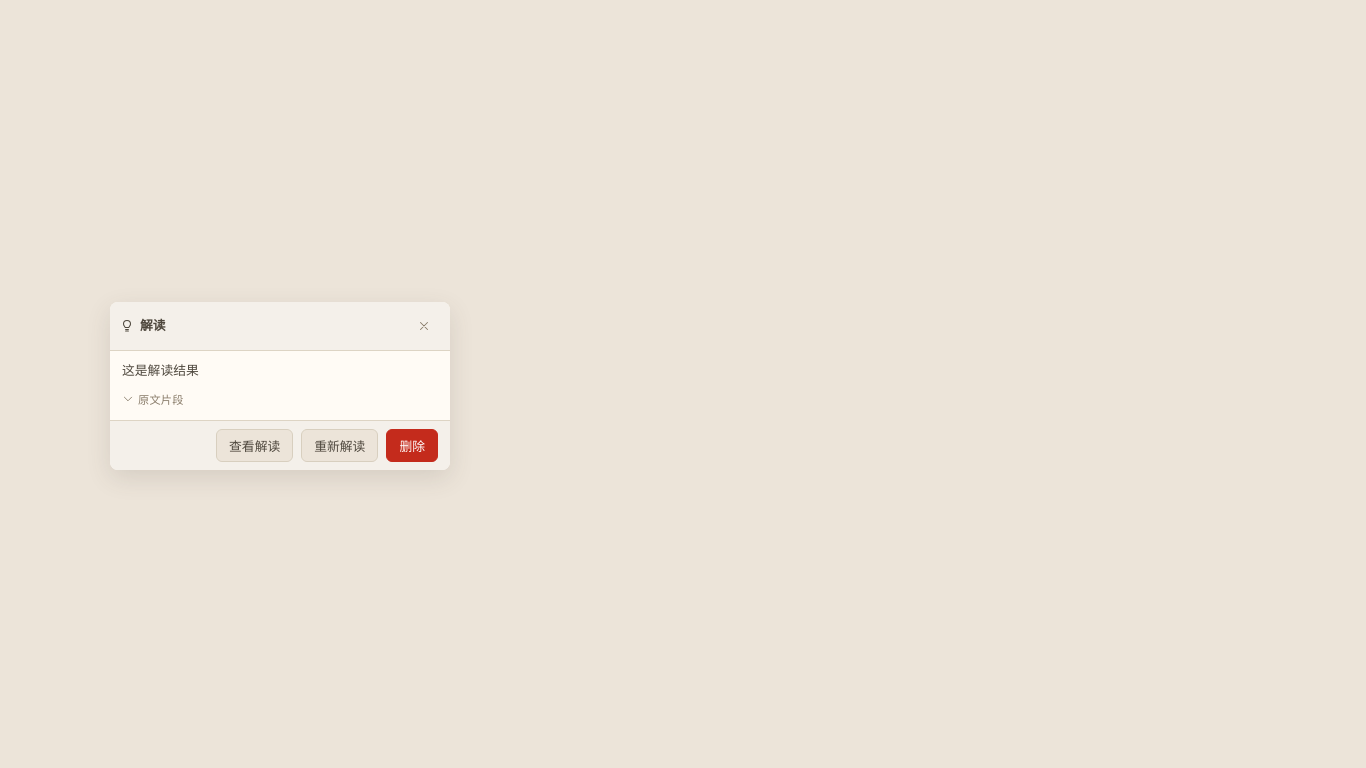
Test: InterpretPopup › shows the latest assistant answer inline with source text collapsed
The width and height of the screenshot is (1366, 768).
Expected: the text "这是解读结果" is shown, top-left (122, 363), bottom-right (199, 378)
Expected: the text "some english text" is not shown
What coordinates should you click on to do the following:
click the button "原文片段"
I would click on:
 (153, 400)
Its box is top-left (116, 390), bottom-right (190, 410).
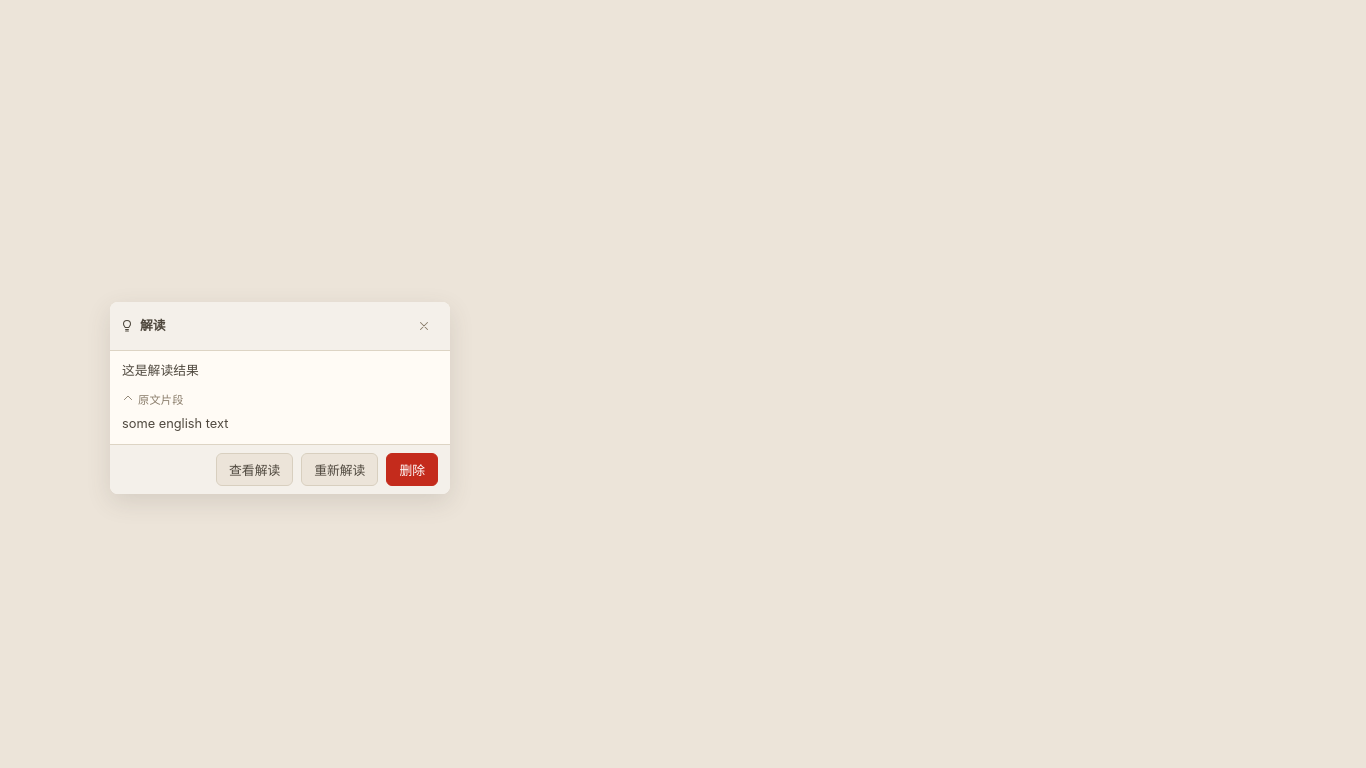
Result: the text "some english text" is shown at top-left (122, 416), bottom-right (228, 432)
